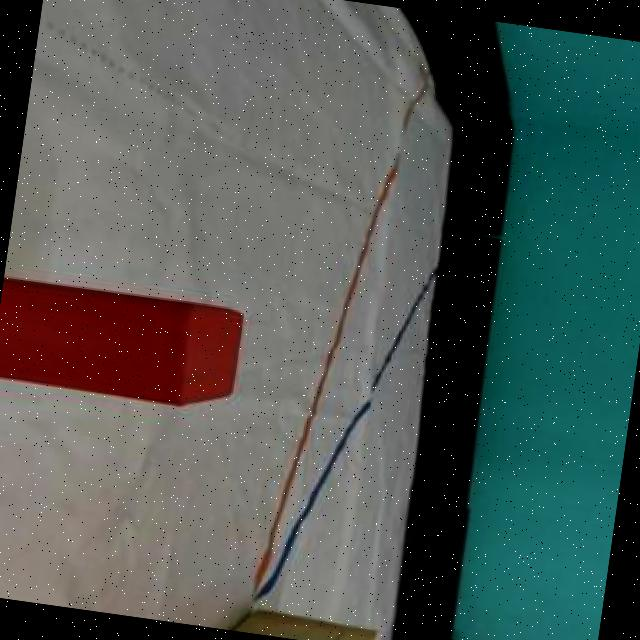redbox: (0, 273, 244, 414)
